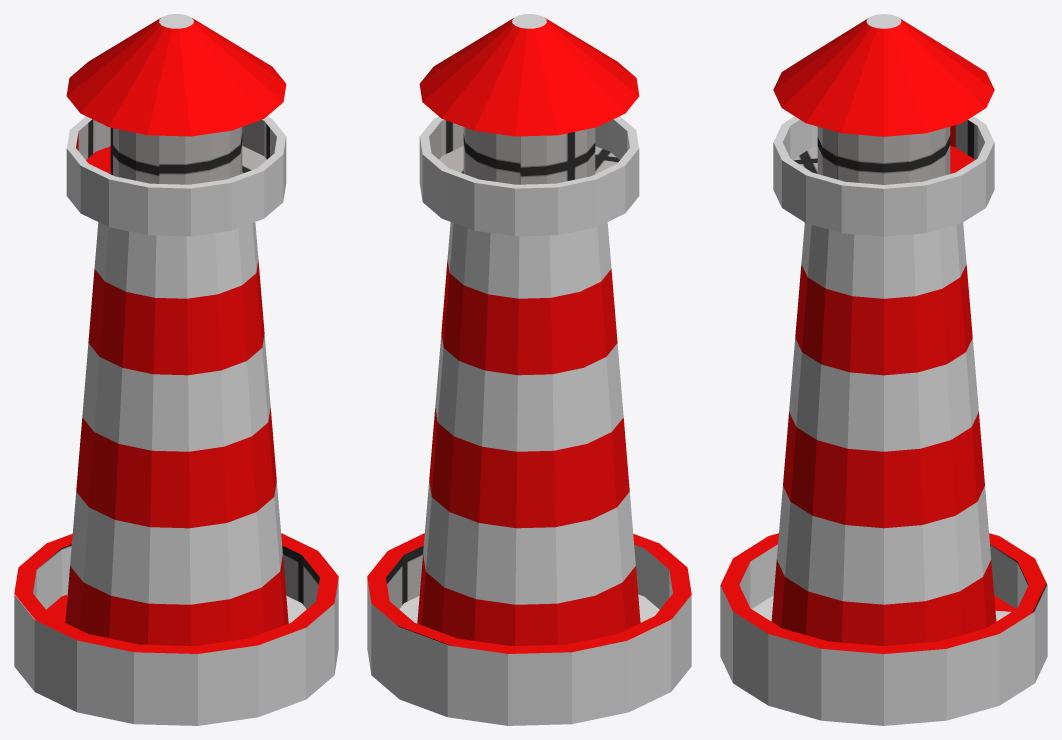
File: Lighthouse.fbx
3 renders of one model, left to right at view 1: azimuth 30°, elevation 25°; view 2: azimuth 150°, elevation 25°; view 3: azimuth 270°, elevation 25°, orthographic.
Visible parts, largest first — view 1: Lighthouse; view 2: Lighthouse; view 3: Lighthouse.
Boxes of the visible parts, <box> form: Lighthouse: <box>14,14,338,725</box>; Lighthouse: <box>367,14,691,725</box>; Lighthouse: <box>720,14,1047,725</box>.
Size of the model in its own units: 400 by 858 by 400.
